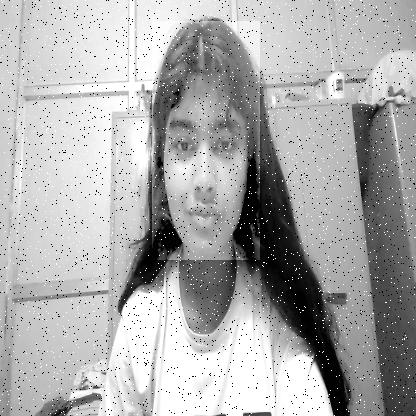Normal: (152, 21, 260, 260)
